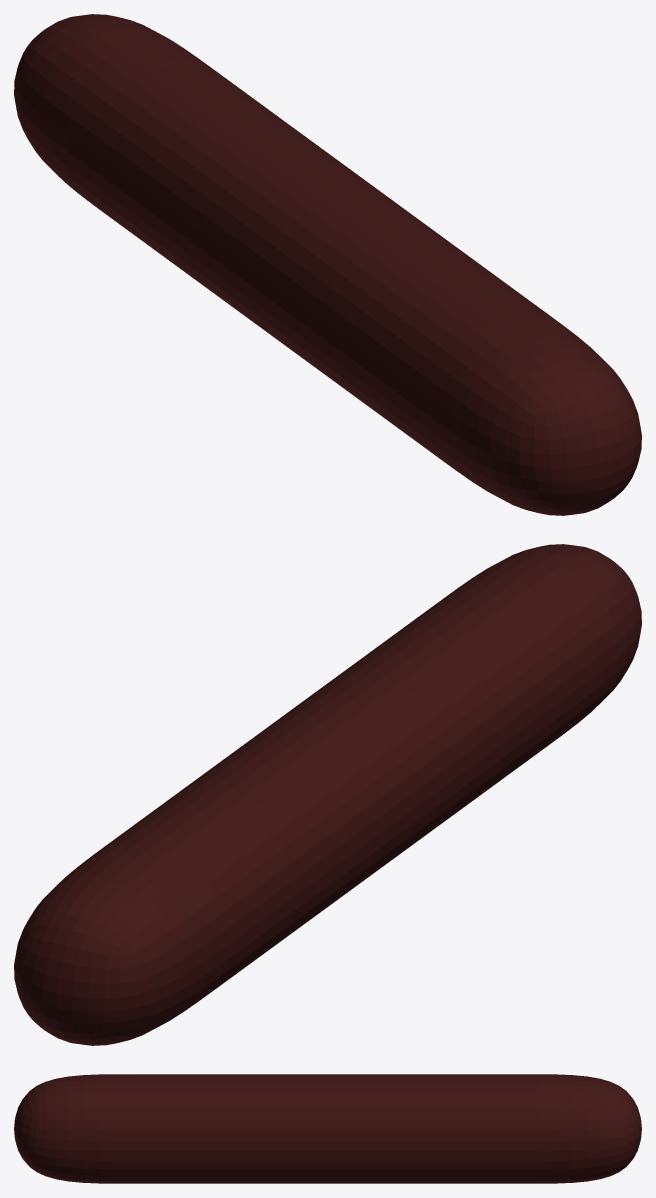
File: salchicha.fbx
3 renders of one model, top to bottom at view 1: azimuth 30°, elevation 25°; view 2: azimuth 150°, elevation 25°; view 3: azimuth 270°, elevation 25°, orthographic. The views are drawn at different scales.
Visible parts, largest first — view 1: Cube; view 2: Cube; view 3: Cube.
Boxes of the visible parts, left/top/right/bottom form: Cube: left=14, top=14, right=641, bottom=515; Cube: left=14, top=544, right=641, bottom=1045; Cube: left=14, top=1074, right=641, bottom=1183.
Size of the model in its own units: 183 by 183 by 1093.
